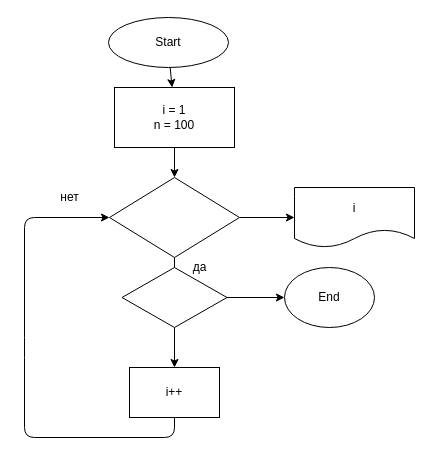
Some shapes in this 432 by 463 pixel diagram are drawn without their labels. Each missing label, with the centre of its shape:
"i/2==0" goes at [174,297].
"i<=n" goes at [174,217].
